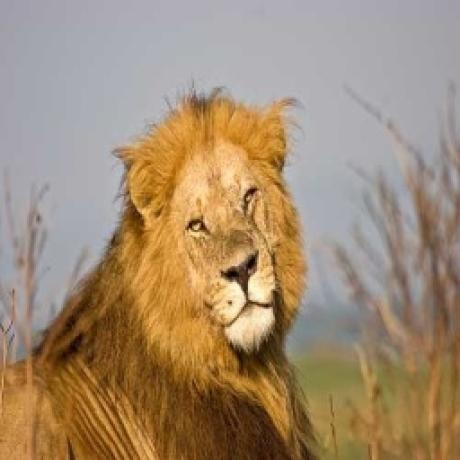Lion: (0, 81, 316, 460)
